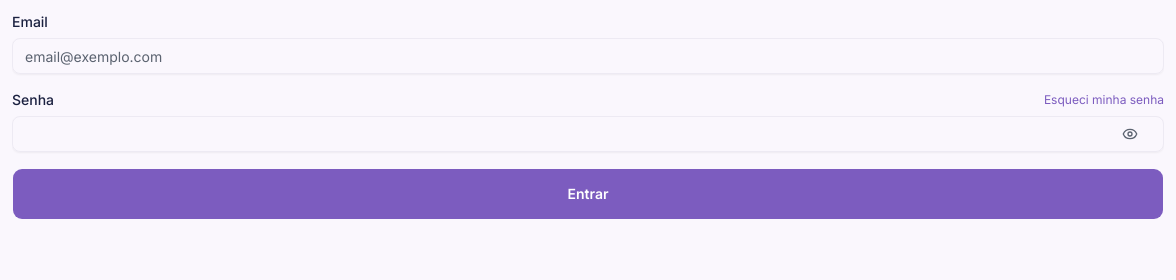
it: LoginForm › exibe erro de validação quando email está vazio
Click the button "Entrar" at x=588, y=194, box [12,168,1164,220]
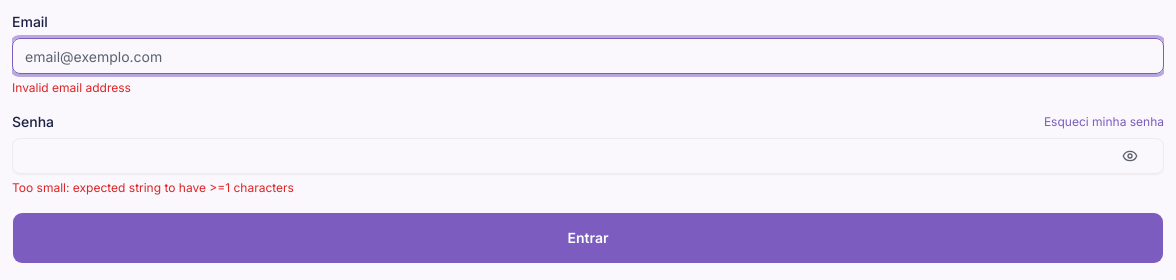
expect the message "Invalid email address" is shown: met, box [12,80,131,95]
